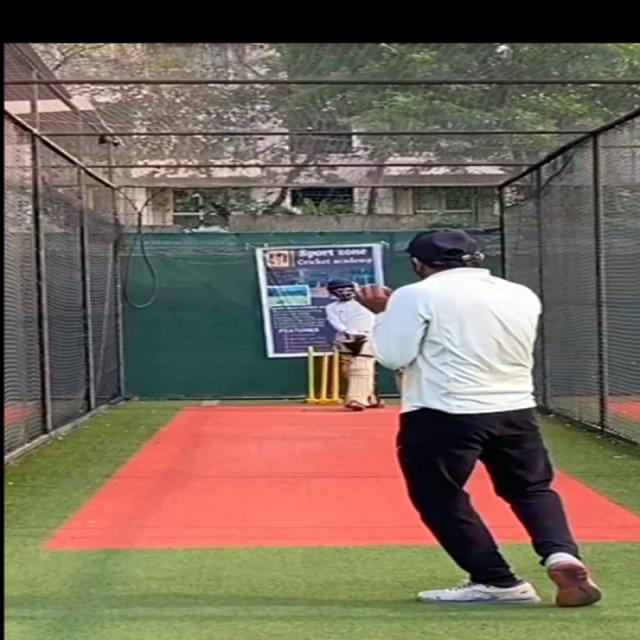stump: (303, 343, 342, 404)
